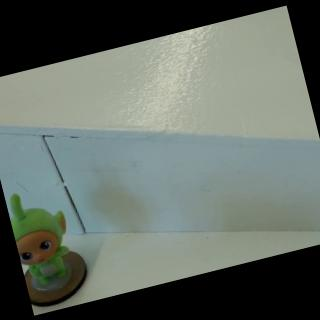teletubby: (9, 193, 69, 285)
